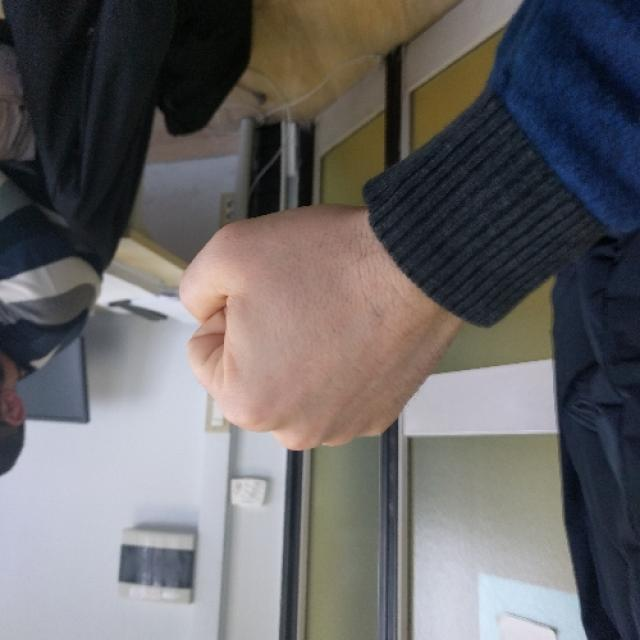rock: (180, 200, 422, 450)
